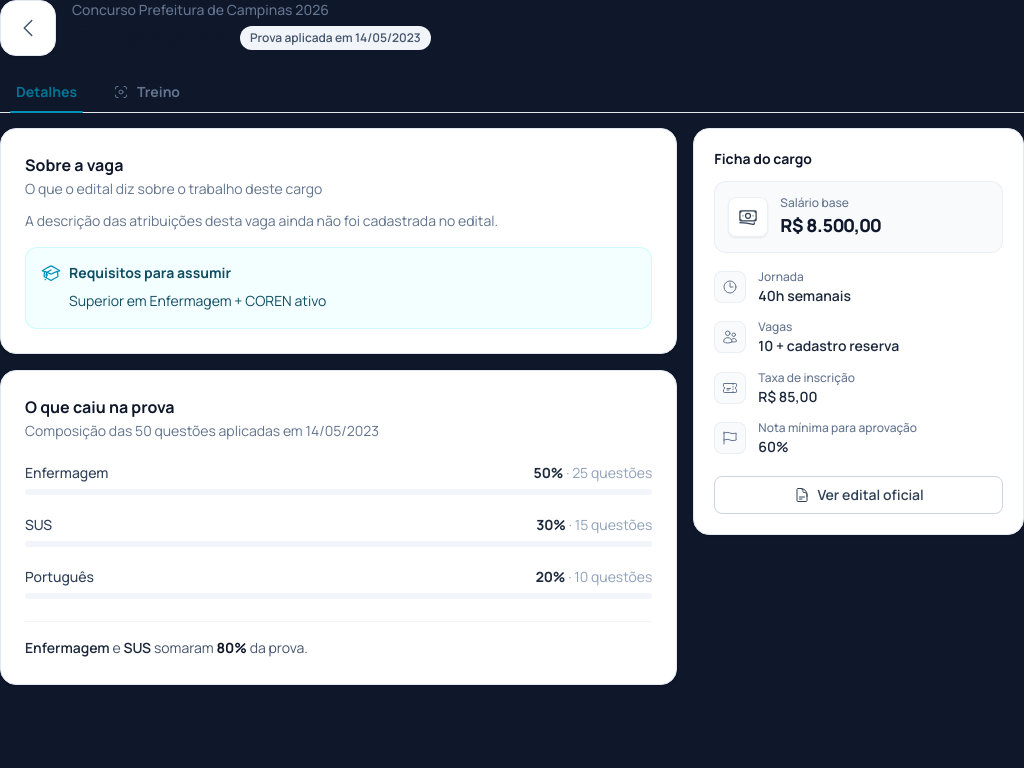
Test: página do cargo — cota/plano bloqueiam o CTA com o motivo (T5.1) › sem assinatura (e sem treino grátis): "Começar treino" desabilitado + motivo na mesa e no hero
The width and height of the screenshot is (1024, 768).
Step 1. Click the tab "Treino" → [147, 92], box [97,72,196,112]
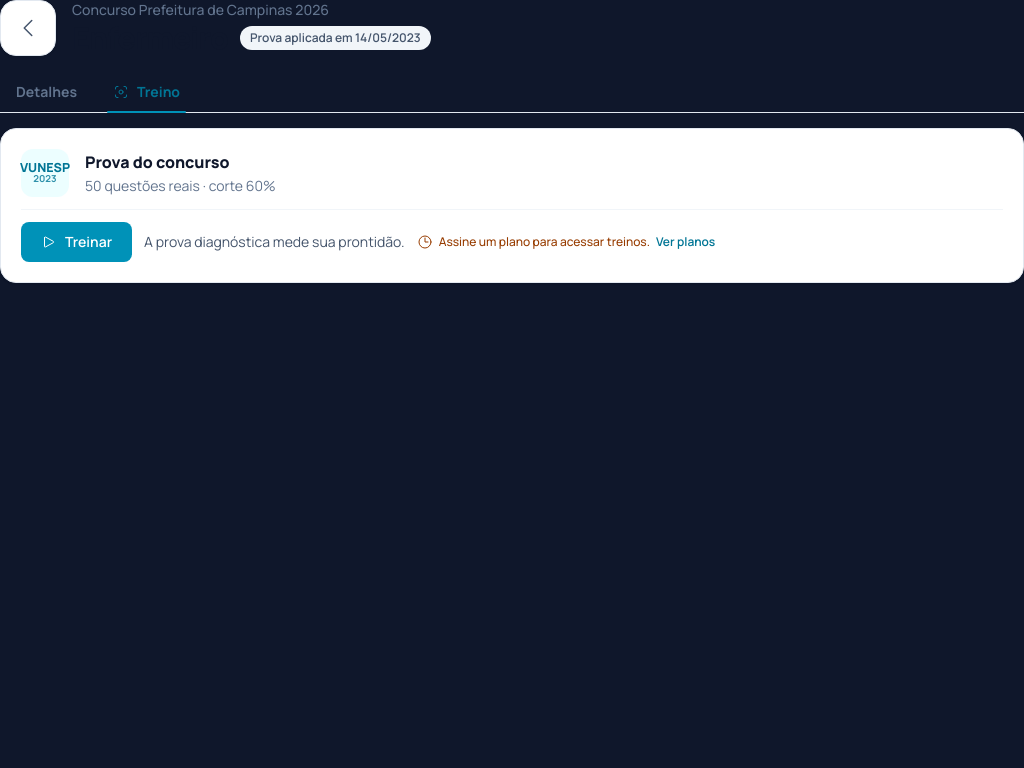
Result: the text "Assine um plano para acessar treinos. Ver planos" is shown at [417,234,715,250]
Result: the link "Ver planos" is shown at [656,234,715,250]
Step 2. Click the button with aria-label "Treinar: " → [77, 242], box [21,222,132,262]
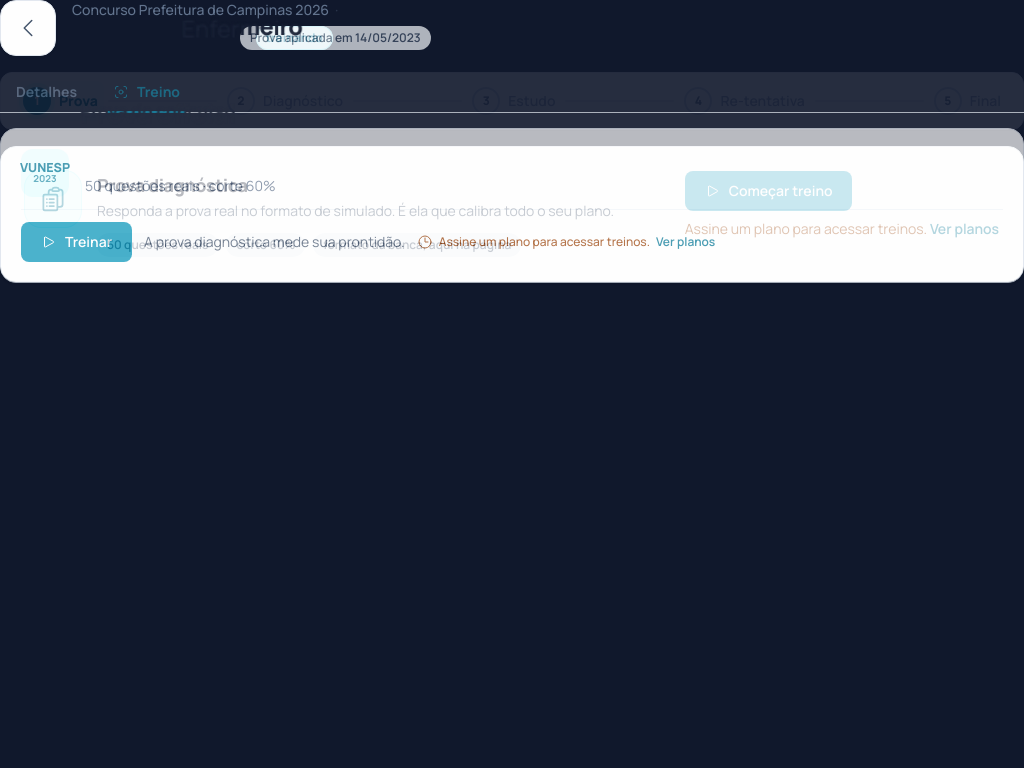
Result: the text "Assine um plano para acessar treinos. Ver planos" is shown at [685,219,999,239]
Result: the button "Começar treino" is disabled at [685,171,852,211]
